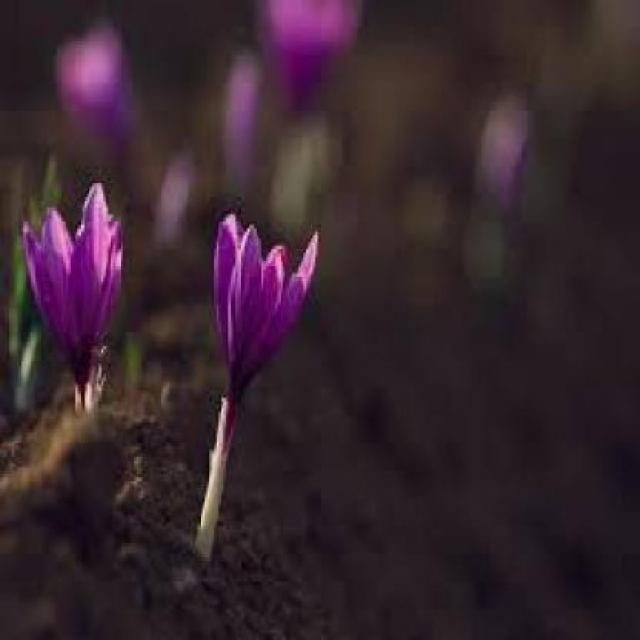saffron open: (210, 215, 317, 544), (25, 184, 121, 396)
